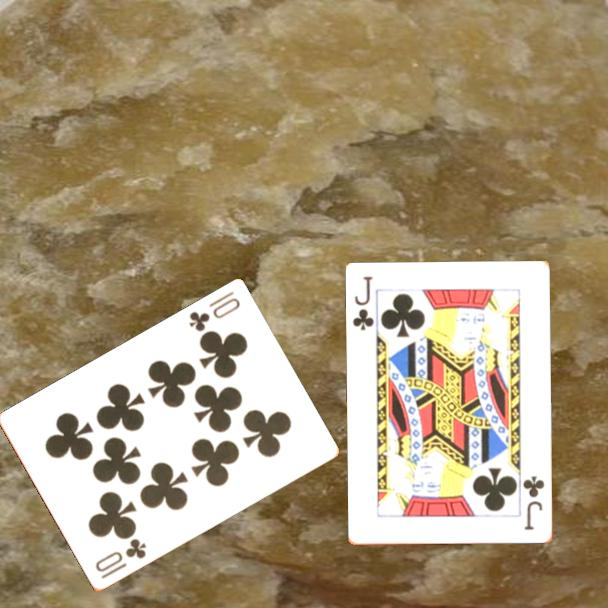c10: (185, 288, 243, 335), (92, 535, 149, 582)
c11: (520, 473, 548, 533), (349, 273, 377, 333)
